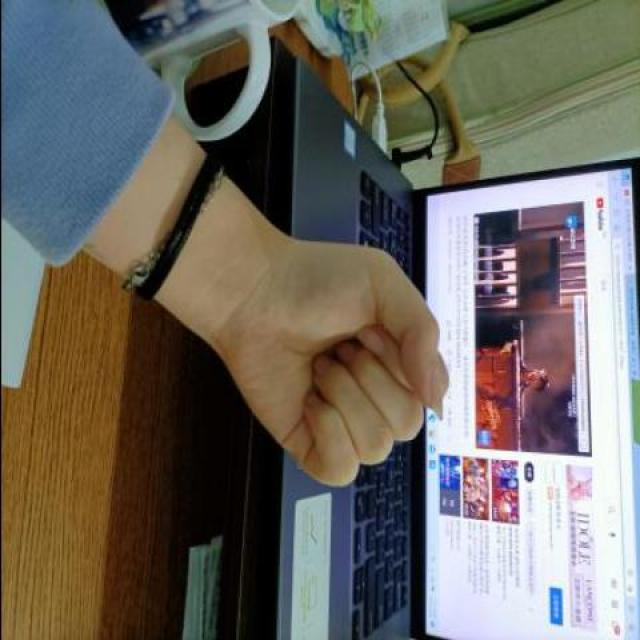fist: (215, 223, 452, 492)
